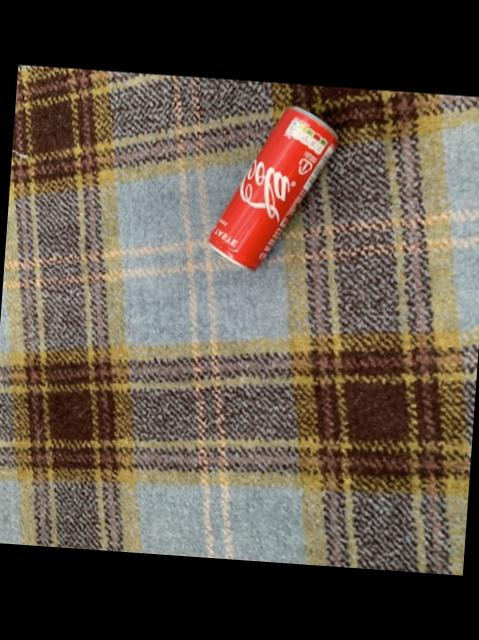metal: (209, 108, 336, 270)
